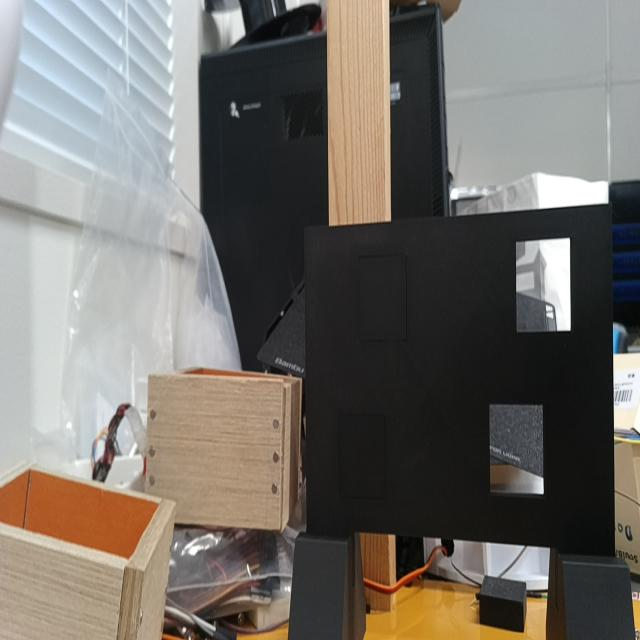Obstacle: (516, 238, 572, 332), (489, 406, 545, 492)
Wall: (304, 204, 614, 556)
